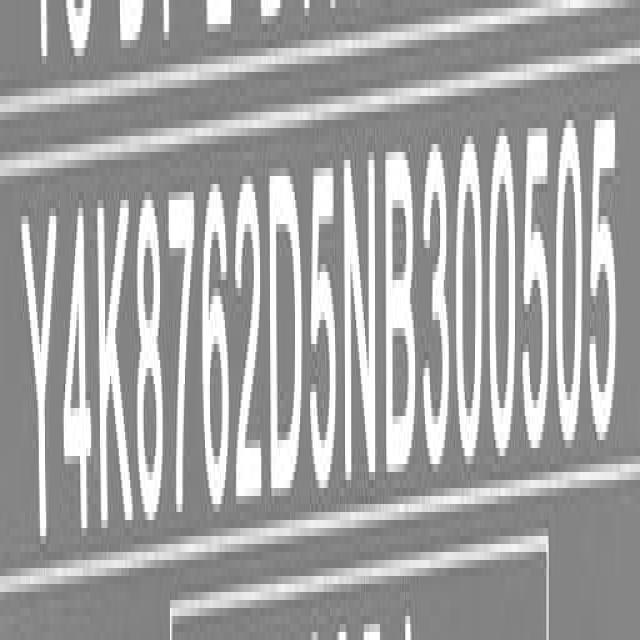0: (488, 115, 520, 463), (554, 103, 584, 450), (457, 127, 485, 469)
2: (234, 166, 264, 520)
3: (422, 132, 452, 476)
4: (61, 191, 92, 552)
5: (308, 149, 339, 499), (521, 107, 551, 458), (591, 103, 621, 452)
6: (201, 169, 230, 524)
7: (167, 175, 196, 526)
8: (134, 185, 162, 536)
B: (388, 135, 420, 482)
D: (270, 157, 304, 510)
K: (97, 188, 134, 548)
N: (342, 151, 378, 501)
Y: (19, 202, 58, 554)
